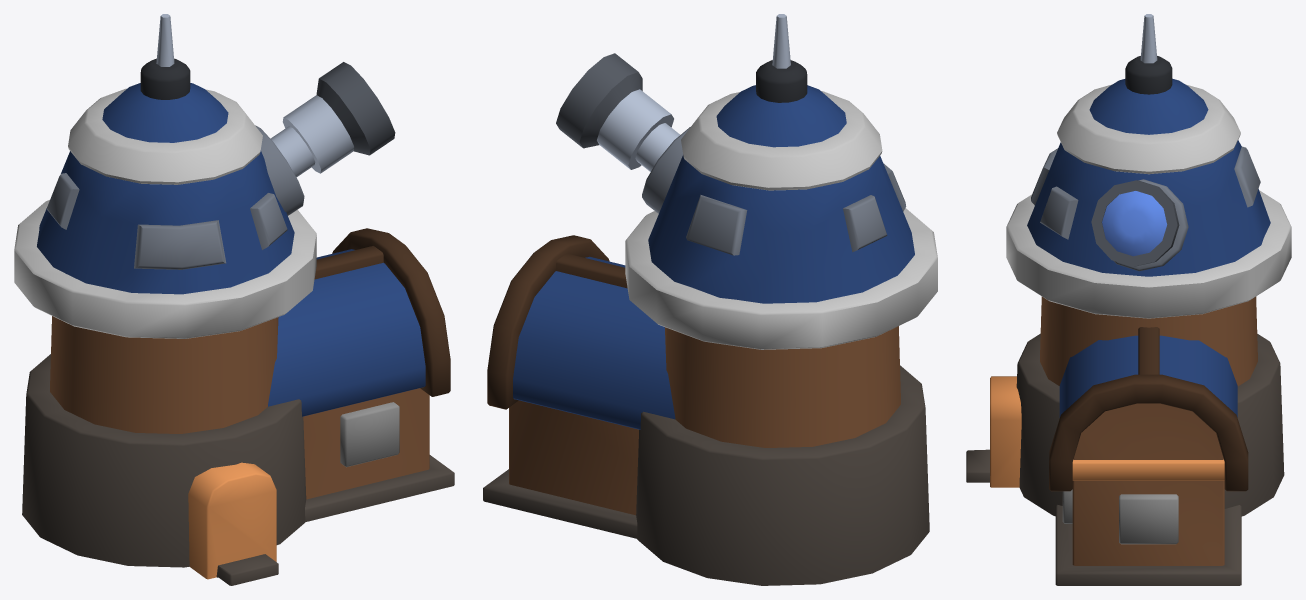
File: Observatory.fbx
3 views of the same model, side by side, from view 1: azimuth 30°, elevation 25°; view 2: azimuth 150°, elevation 25°; view 3: azimuth 270°, elevation 25° (orthographic). The views are drawn at different scales.
Visible parts, largest first — view 1: Cylinder.269, Cylinder.270, Cube.1300, Cylinder.274, Cube.1297, Cube.1301, Cylinder.273, Cylinder.272, Cube.1298, Cube.1304, Cylinder.271, Cube.1299 (+1 smaller); view 2: Cylinder.269, Cylinder.270, Cube.1300, Cylinder.274, Cube.1297, Cylinder.273, Cylinder.272, Cube.1298, Cylinder.271, Cube.1299, Cylinder.275; view 3: Cylinder.270, Cube.1297, Cylinder.269, Cylinder.274, Cube.1298, Cylinder.273, Cube.1300, Cylinder.272, Cube.1301, Cube.1302, Cube.1303, Cylinder.271 (+2 smaller).
Boxes of the visible parts, box(x1,y1,x2,y2) form: Cylinder.269: box(22, 316, 306, 567); Cylinder.270: box(37, 58, 294, 294); Cube.1300: box(268, 249, 425, 416); Cylinder.274: box(14, 200, 316, 338); Cube.1297: box(303, 388, 454, 521); Cube.1301: box(188, 462, 278, 585); Cylinder.273: box(68, 88, 262, 184); Cylinder.272: box(270, 62, 395, 177); Cube.1298: box(332, 228, 450, 396); Cube.1304: box(340, 402, 399, 467); Cylinder.271: box(255, 125, 304, 215); Cube.1299: box(314, 246, 383, 279); Cylinder.269: box(636, 326, 929, 585); Cylinder.270: box(648, 60, 914, 303); Cube.1300: box(513, 256, 675, 429); Cylinder.274: box(625, 208, 937, 349); Cube.1297: box(483, 400, 638, 538); Cylinder.273: box(681, 91, 882, 190); Cylinder.272: box(556, 53, 680, 171); Cube.1298: box(487, 235, 609, 409); Cylinder.271: box(642, 127, 690, 213); Cube.1299: box(556, 253, 627, 288); Cylinder.275: box(772, 14, 790, 68); Cylinder.270: box(1027, 56, 1270, 276); Cube.1297: box(1055, 403, 1241, 585); Cylinder.269: box(1016, 296, 1284, 516); Cylinder.274: box(1006, 190, 1291, 318); Cube.1298: box(1049, 374, 1248, 491); Cylinder.273: box(1057, 84, 1240, 174); Cube.1300: box(1059, 335, 1237, 417); Cylinder.272: box(1091, 180, 1179, 266); Cube.1301: box(966, 376, 1021, 487); Cube.1302: box(1072, 459, 1224, 480); Cube.1303: box(1119, 494, 1178, 544); Cylinder.271: box(1114, 179, 1188, 271).
Bounding box in the file's own units: 134 × 169 × 108.
